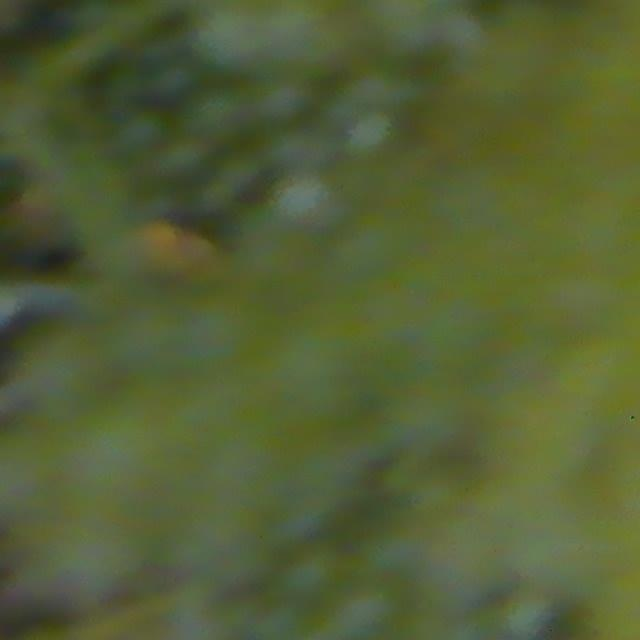SeaGrape: (191, 1, 267, 72), (186, 81, 254, 146), (252, 72, 316, 130)
